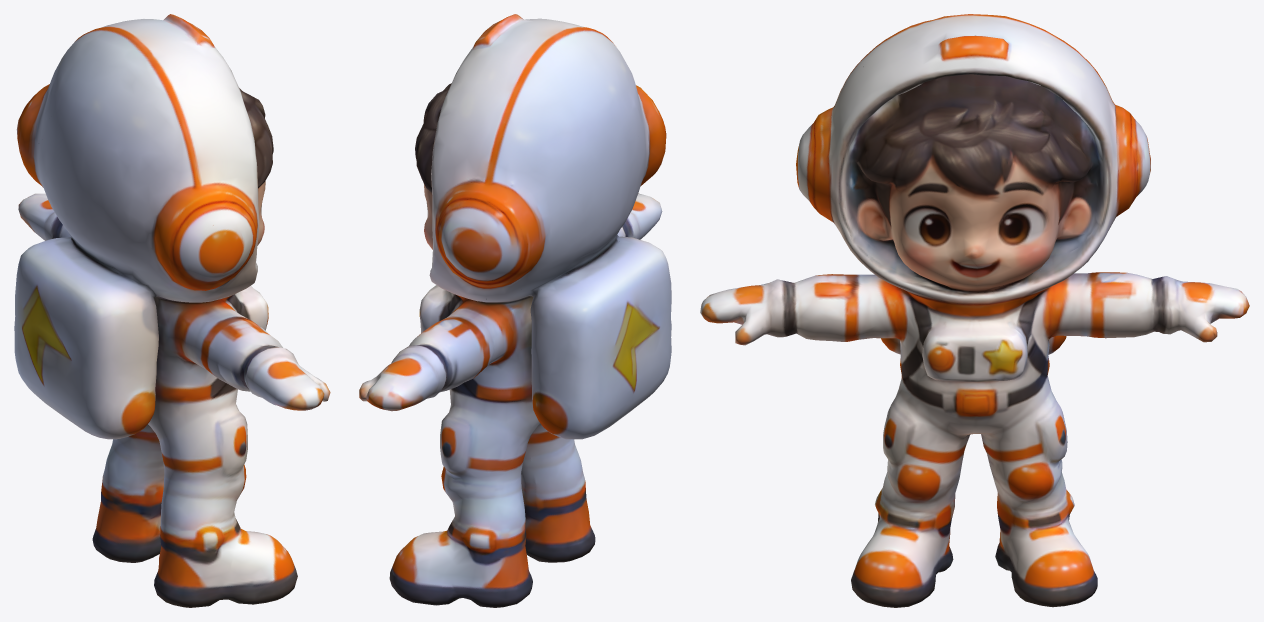
File: doki.ff.glb
3 views of the same model, side by side, from view 1: azimuth 30°, elevation 25°; view 2: azimuth 150°, elevation 25°; view 3: azimuth 270°, elevation 25° (orthographic).
Parts seen in each view (by area): view 1: lagrange_node; view 2: lagrange_node; view 3: lagrange_node.
Part boxes in pixels (box(x1,y1,x2,y2)): lagrange_node: box(14, 14, 330, 607); lagrange_node: box(359, 14, 671, 607); lagrange_node: box(700, 14, 1249, 607).
Bounding box in the file's own units: 0.8079 × 2 × 1.83.
Materials: 1 (1 with a texture image).
